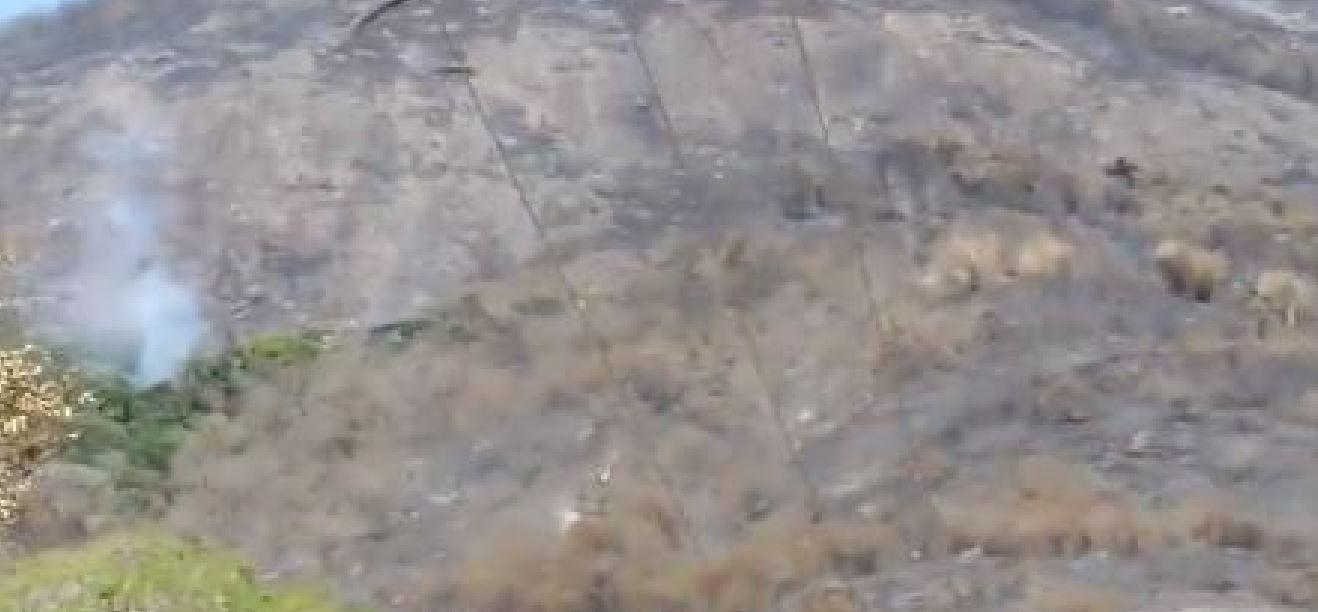smoke: (60, 270, 190, 377)
